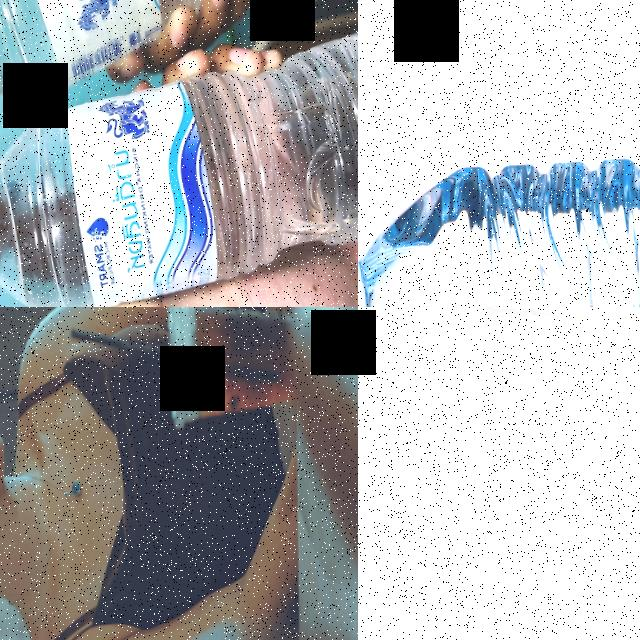bottle: (0, 6, 358, 307), (358, 133, 640, 307), (0, 0, 358, 107)
cup: (358, 307, 640, 640), (160, 307, 299, 435)
